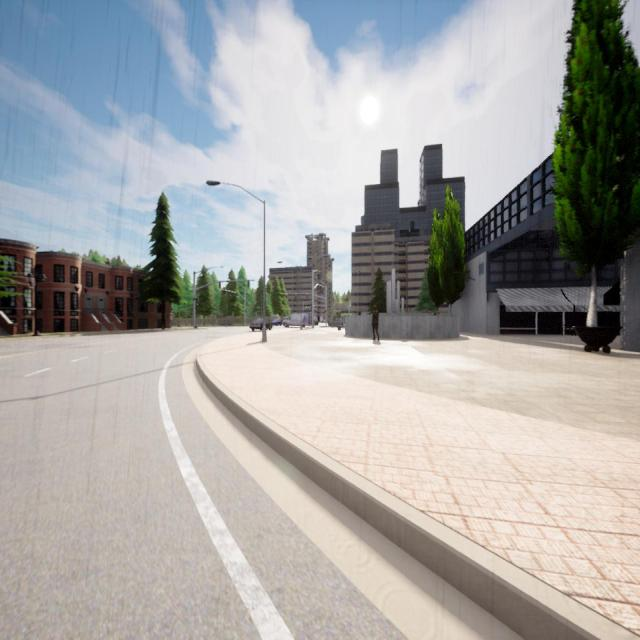Pedestrian: (372, 305, 379, 343)
Vehicle: (283, 314, 310, 328), (249, 317, 272, 331), (328, 318, 347, 328), (272, 318, 282, 326)
traffic_light: (233, 282, 236, 290), (248, 280, 250, 288), (224, 291, 227, 296), (218, 282, 220, 288), (322, 288, 324, 294), (230, 292, 232, 297), (236, 294, 238, 298), (320, 286, 321, 293), (306, 295, 308, 298), (295, 294, 296, 299), (286, 295, 287, 299), (318, 286, 318, 290)
